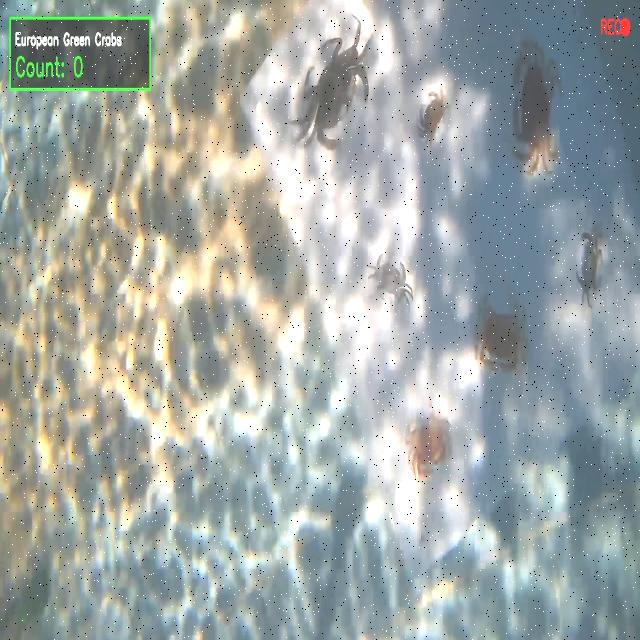European_Green_Crab: (283, 2, 386, 181), (363, 244, 419, 324), (575, 222, 607, 316)
